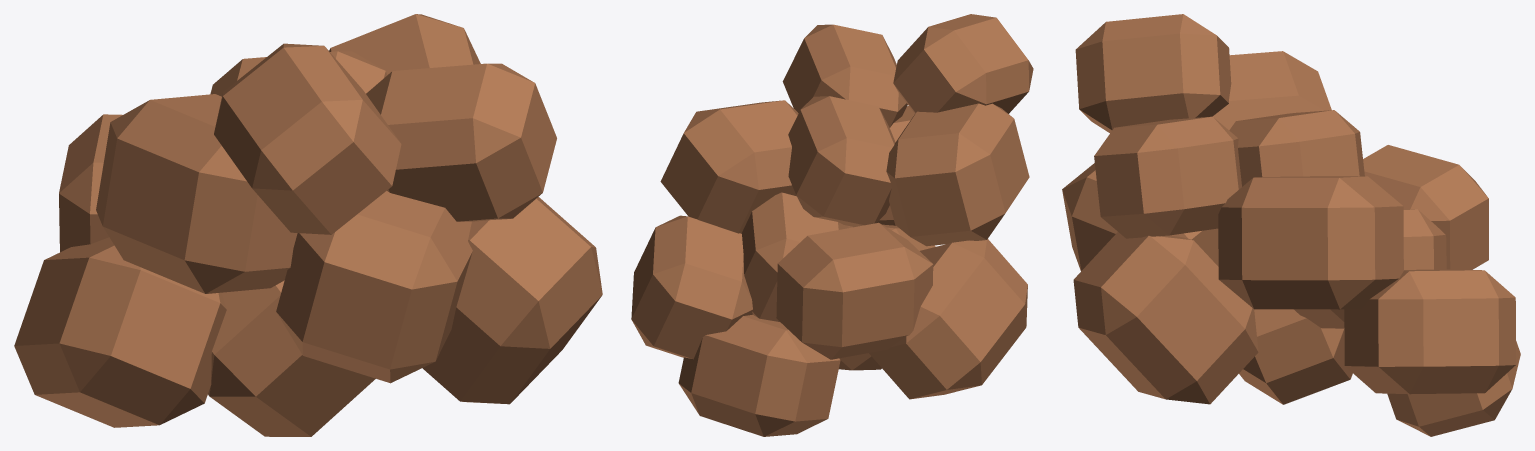
Rendered from potato in the bag.fbx.
3 renders of one model, left to right at view 1: azimuth 30°, elevation 25°; view 2: azimuth 150°, elevation 25°; view 3: azimuth 270°, elevation 25°, orthographic. The views are drawn at different scales.
Parts seen in each view (by area): view 1: potato in the bag; view 2: potato in the bag; view 3: potato in the bag.
Part boxes in pixels (<box>): potato in the bag: <box>14,14,602,436</box>; potato in the bag: <box>631,14,1033,436</box>; potato in the bag: <box>1062,14,1520,436</box>.
Size of the model in its own units: 129 by 123 by 140.
